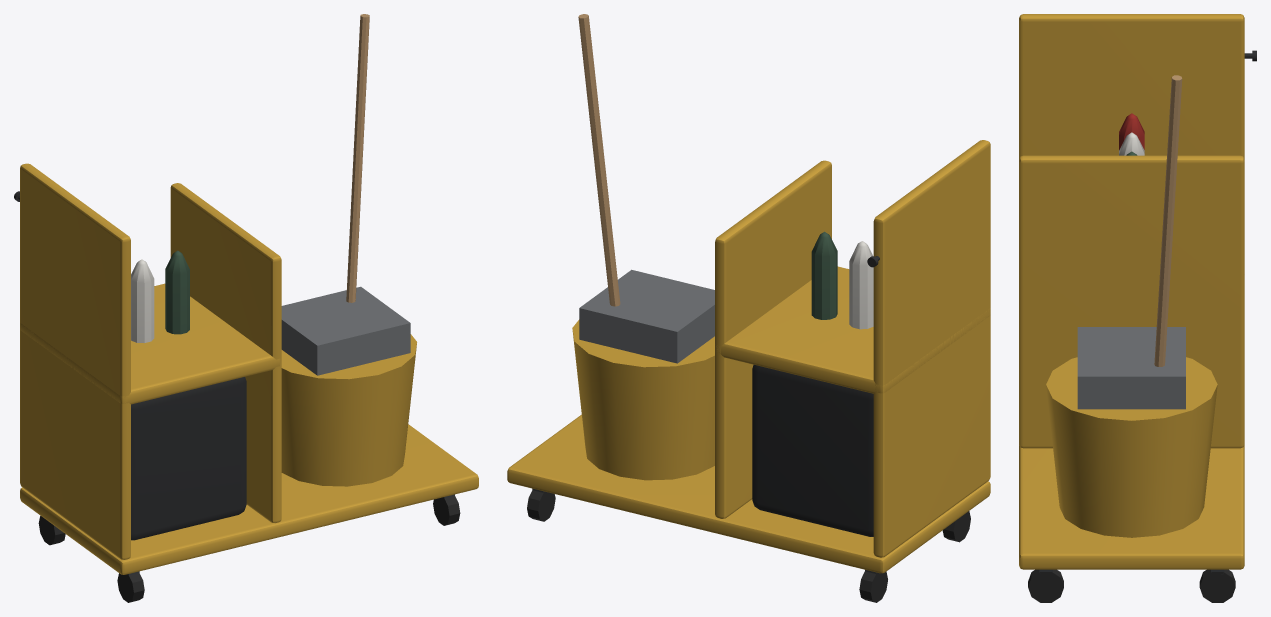
The model's file is prop_cleaning_cart.glb.
3 views of the same model, side by side, from view 1: azimuth 30°, elevation 25°; view 2: azimuth 150°, elevation 25°; view 3: azimuth 270°, elevation 25° (orthographic). The views are drawn at different scales.
Parts seen in each view (by area): view 1: Cart; view 2: Cart; view 3: Cart.
Part boxes in pixels (x1,y1,x2,y2): Cart: (14,14,478,602); Cart: (507,14,990,602); Cart: (1019,14,1256,602).
Size of what is drawn, in the model's own units: 1 by 1.25 by 0.527.
